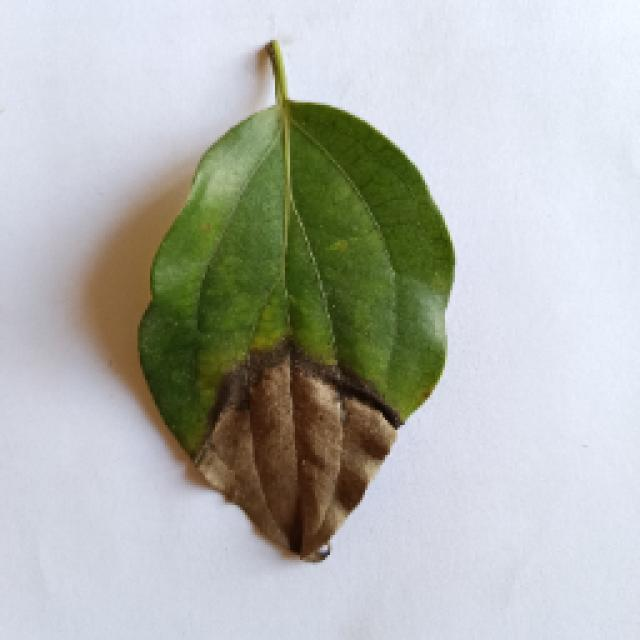footrot: (135, 48, 453, 562)
